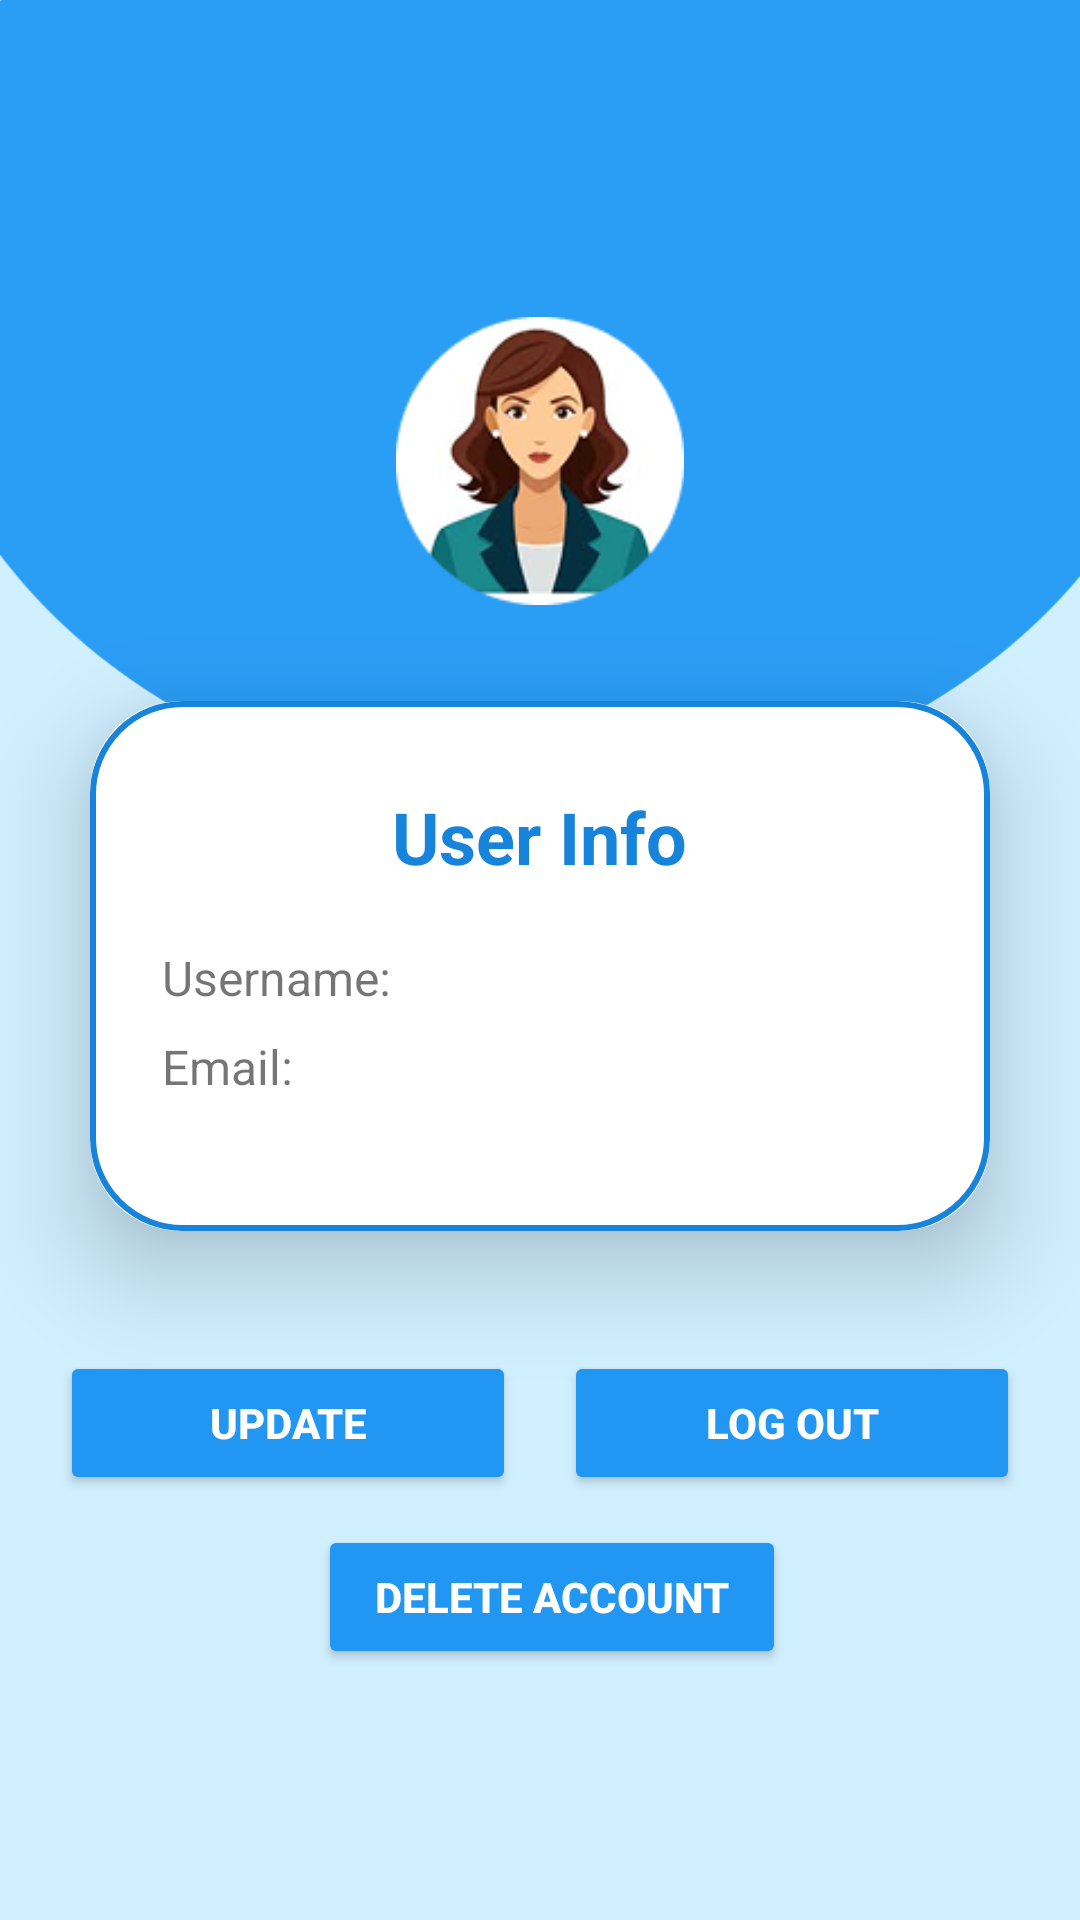

Icons on this 1080 x 1920 Android screen, each with the point to tap as point (x, y):
profile pic user: point (540, 461)
